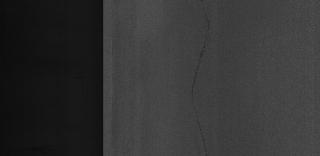water spot: (188, 9, 224, 143)
